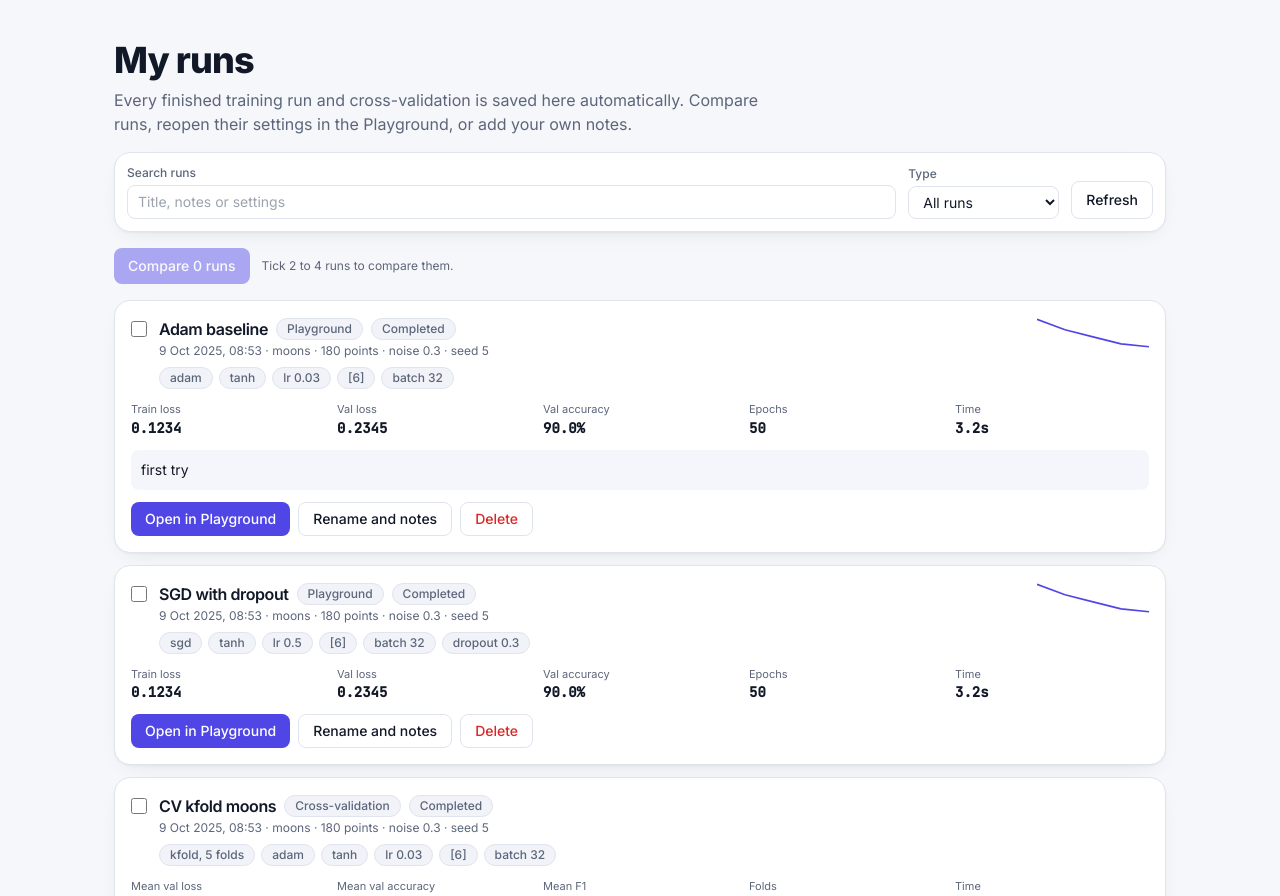
Test: My runs: compare › stops at four selected runs
Expected: the heading "Adam baseline" is shown, [159,317,268,341]
Click the checkbox named "Select this run" at (139, 329), box [131,321,147,337]
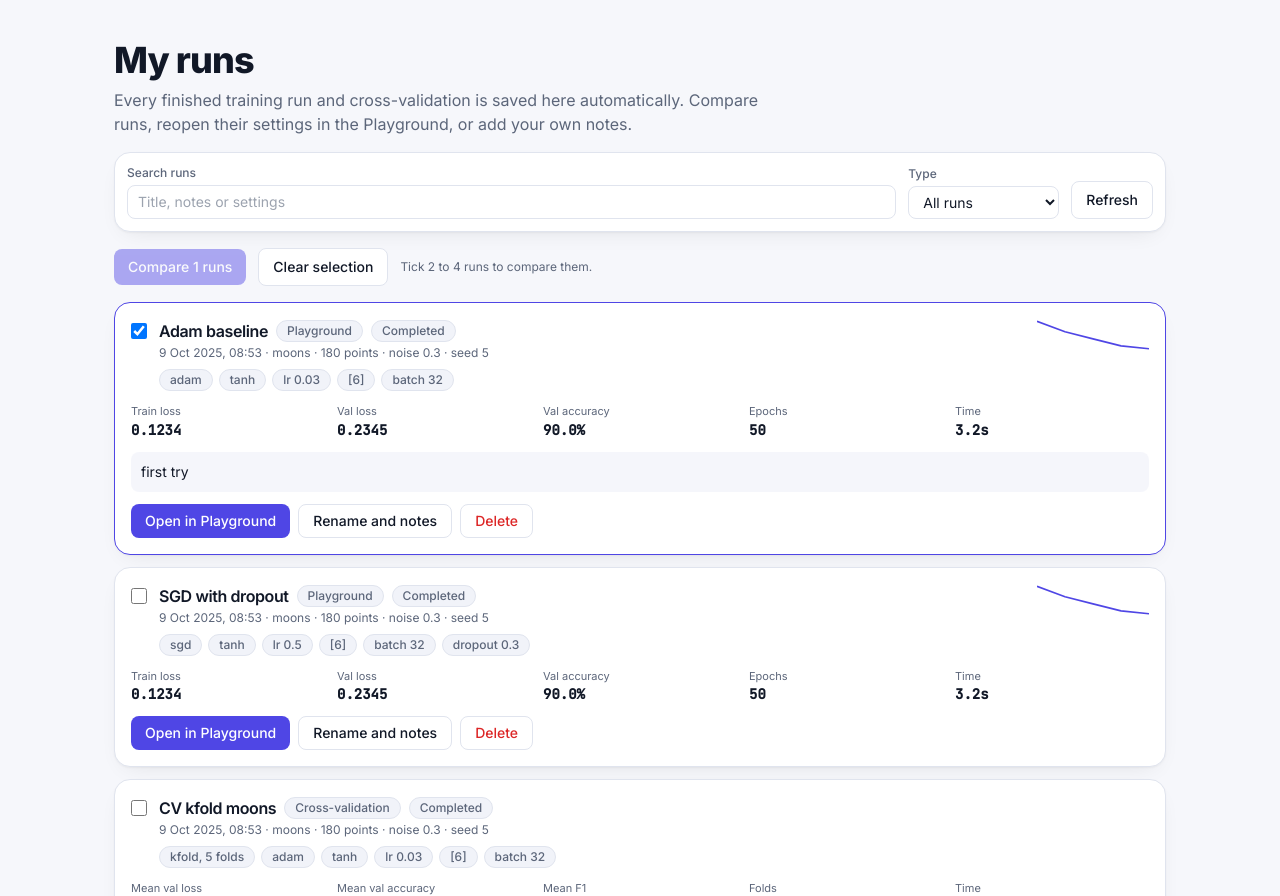
Click the checkbox named "Select this run" at (139, 596), box [131,588,147,604]
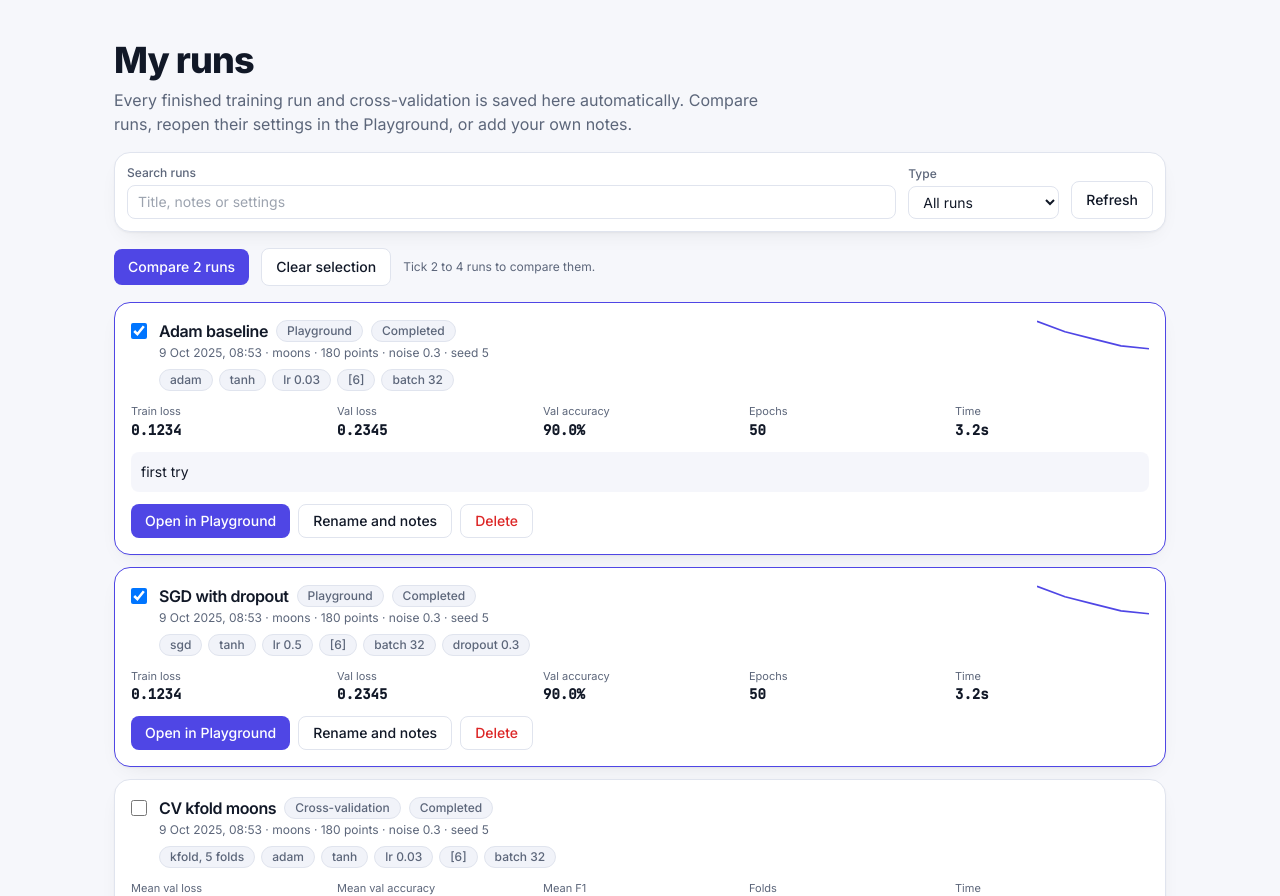
Click the checkbox named "Select this run" at (139, 808), box [131,800,147,816]
(page scrolled)
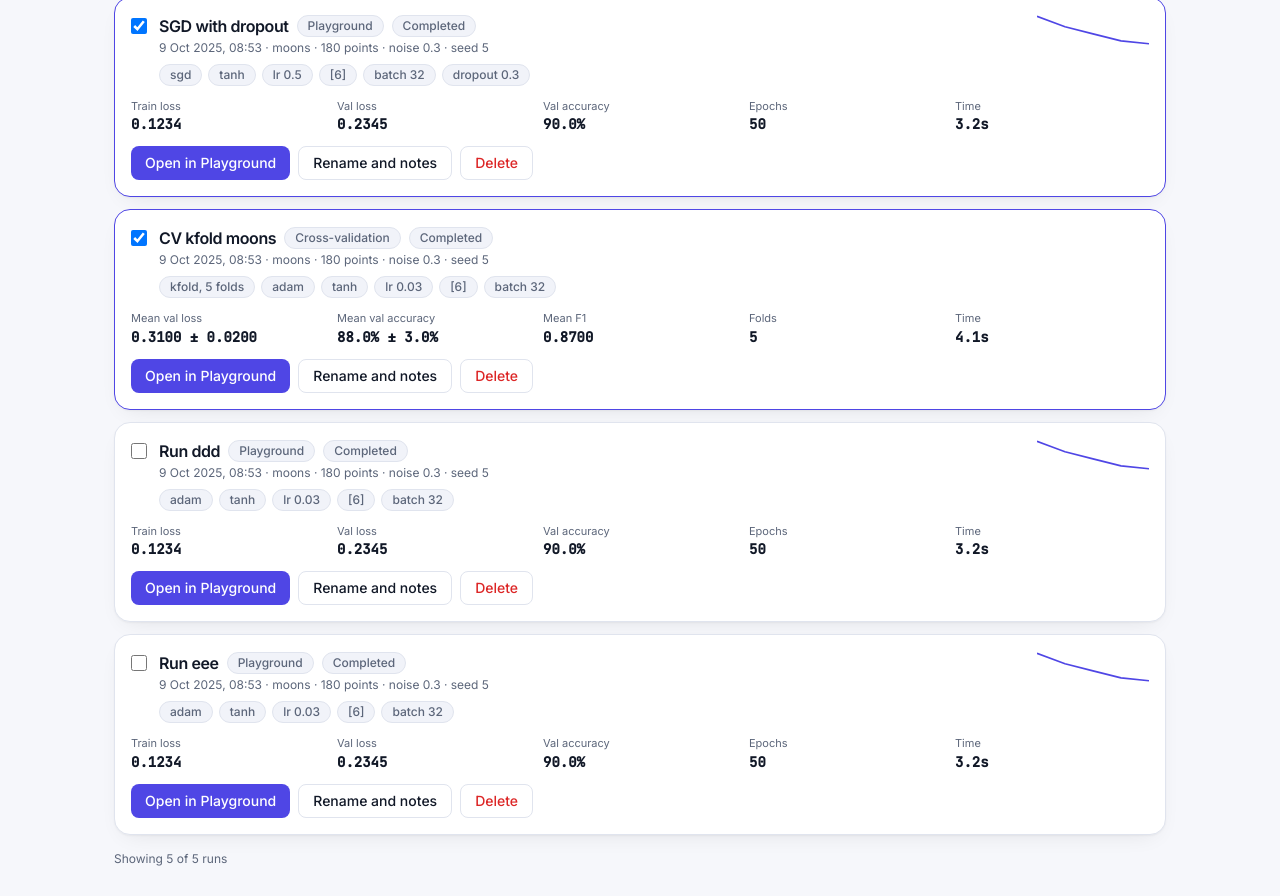
Click the checkbox named "Select this run" at (139, 450), box [131,442,147,458]
(page scrolled)
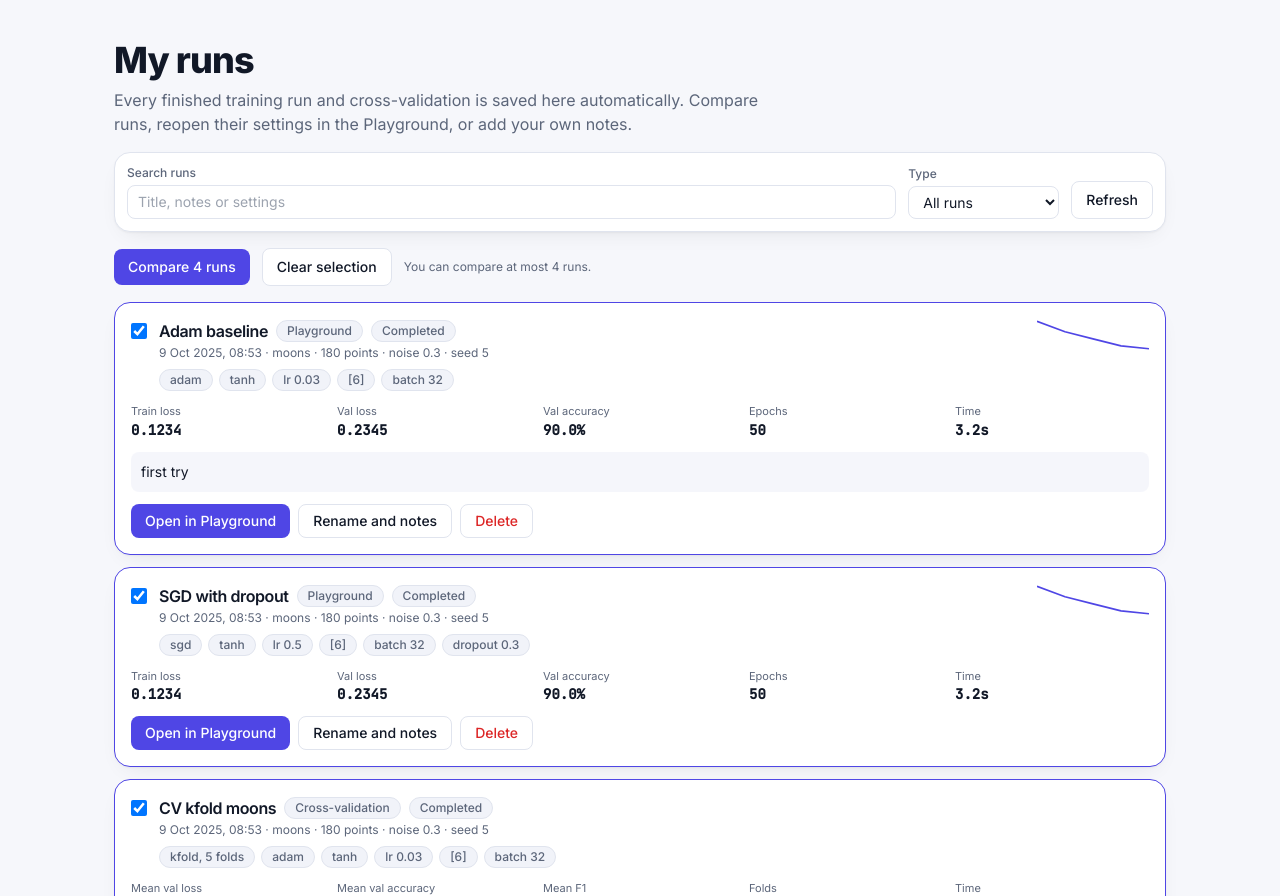
Expected: the text "You can compare at most 4 runs." is shown, [404,259,591,275]
Click the button "Clear selection" at (327, 267), box [262,248,392,286]
(page scrolled)
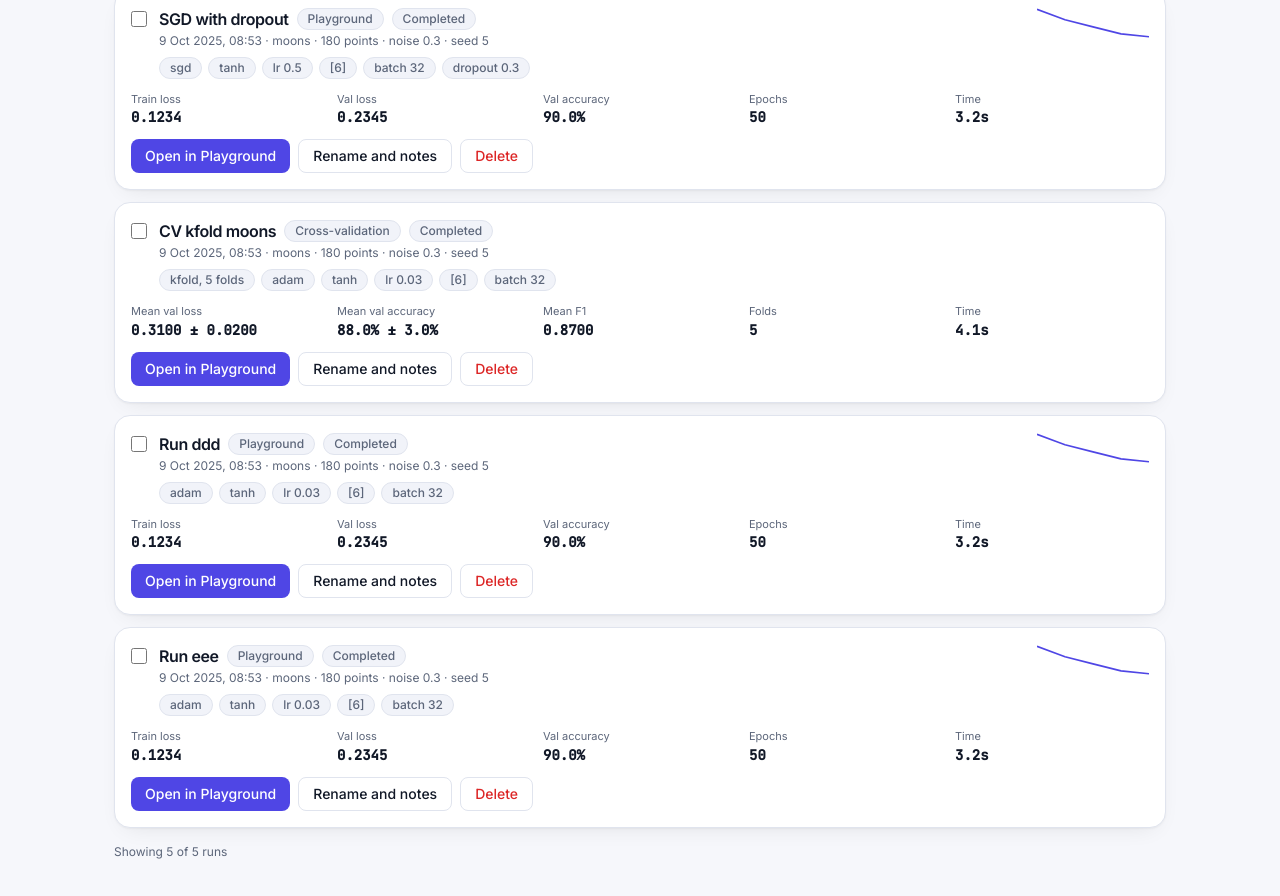
Expected: the checkbox named "Select this run" is enabled, [131,648,147,664]
